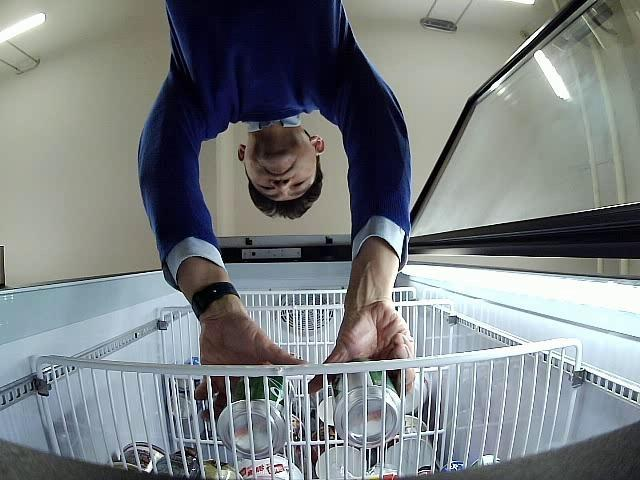12_chilsungCider: (331, 359, 402, 448), (217, 379, 289, 460)
